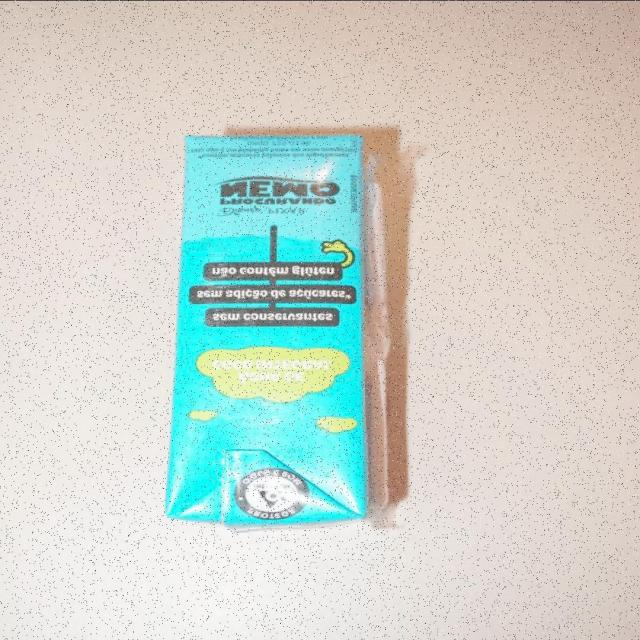CoconutWater: (164, 131, 391, 529)
